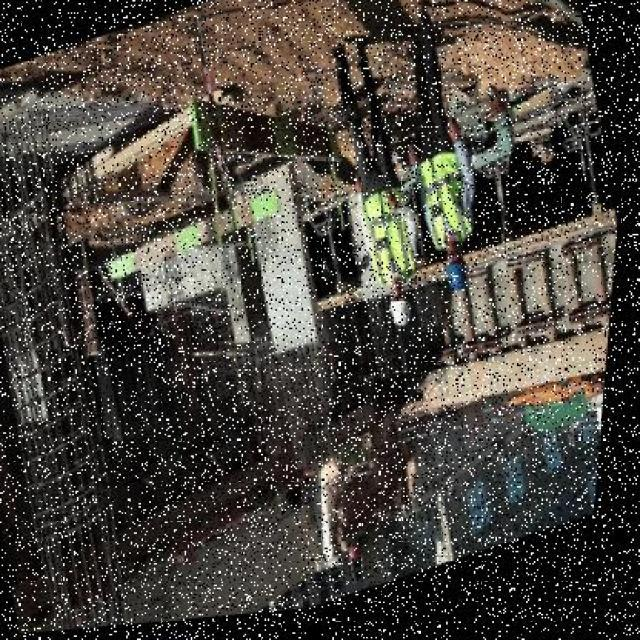helmet: (445, 262, 480, 306), (388, 299, 423, 339)
vest: (400, 135, 488, 271), (346, 177, 438, 307)
